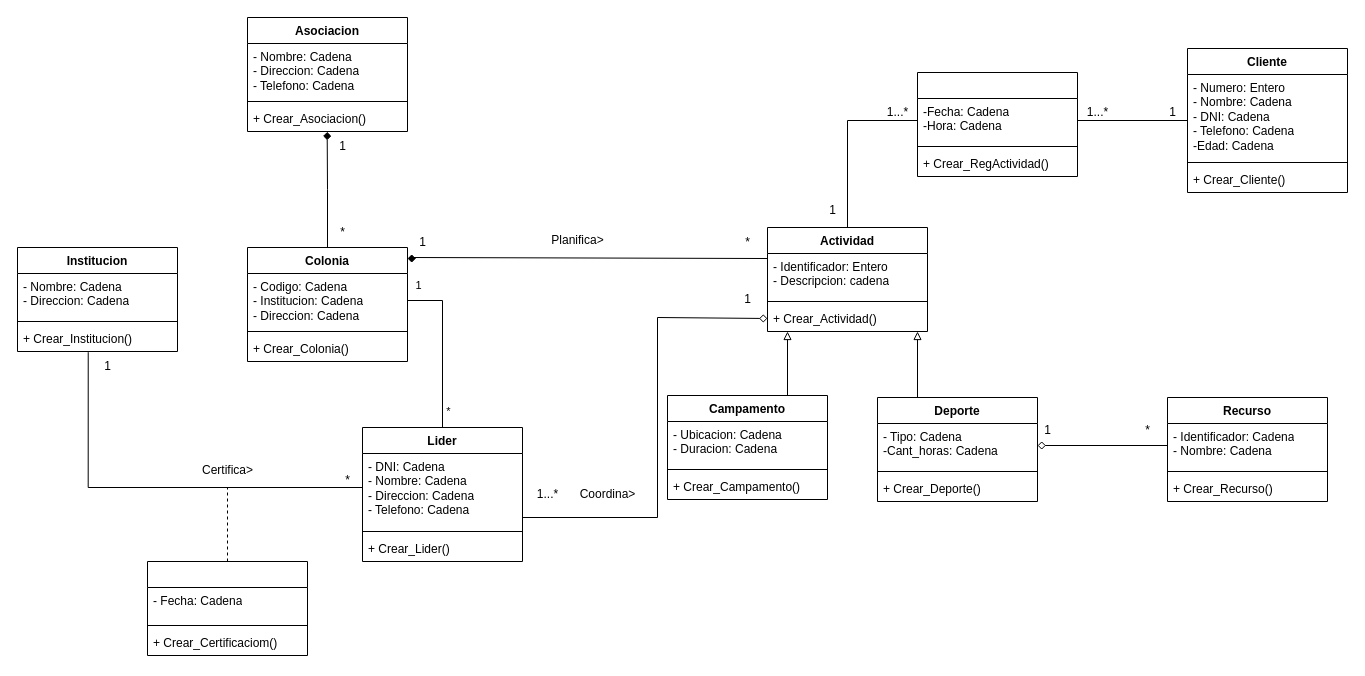
Image size: 1365x676. Some labels were removed from this diagram. The box of each missing label's shape, as (x1, y1, x2, y2) in pixels:
Certificacion: (146, 560, 308, 656)
Registro_actividad: (916, 72, 1078, 176)
